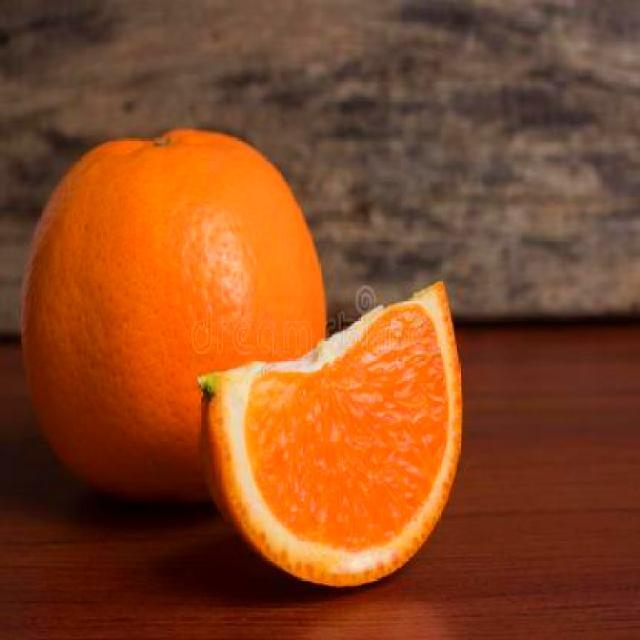Jeruk Sudah Matang: (20, 126, 326, 514)
